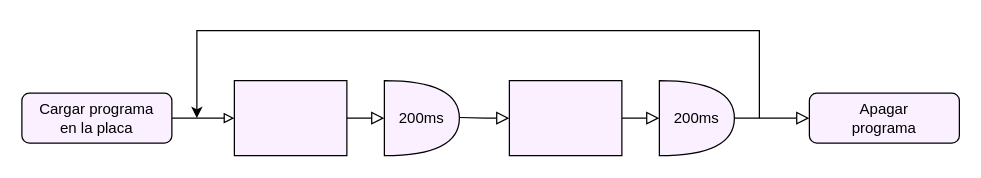
Image size: 981x178. Some labels were removed from this diagram. The shapes that lost their labels are listed below. From the top down, each one's centre as x and y in pixels, then its label:
At pixel 290 117: "Encender intermitentes".
At pixel 565 117: "Apagar intermitentes".
